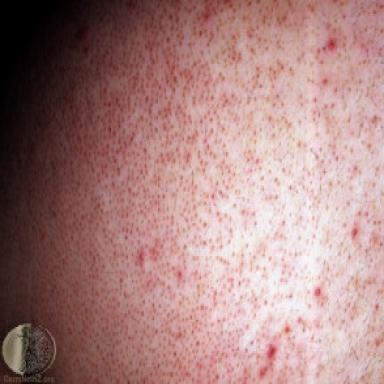acne: (323, 37, 339, 53), (200, 4, 213, 23), (78, 26, 92, 43), (267, 344, 277, 360), (138, 249, 145, 267), (259, 366, 269, 378), (313, 286, 323, 297), (351, 225, 359, 238), (375, 336, 384, 347), (283, 324, 292, 334), (177, 268, 183, 280), (83, 44, 89, 54), (322, 76, 328, 85)
